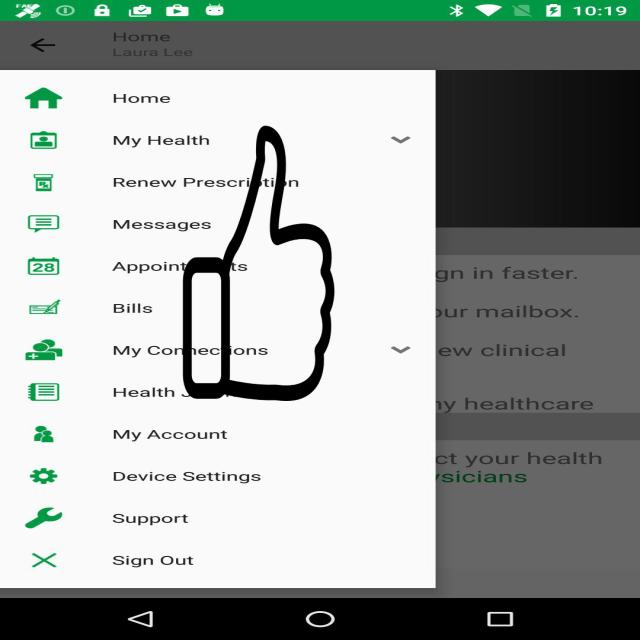privacy zuckering: (180, 126, 336, 401)
